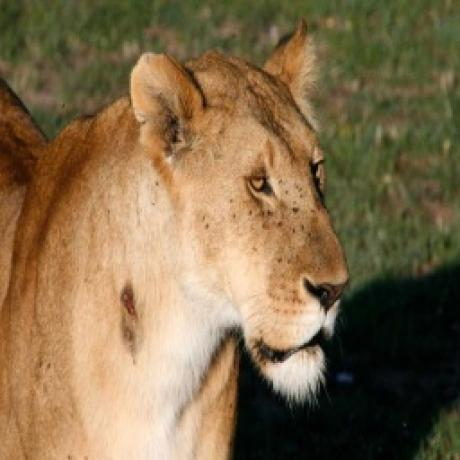Lion: (0, 19, 352, 460)
